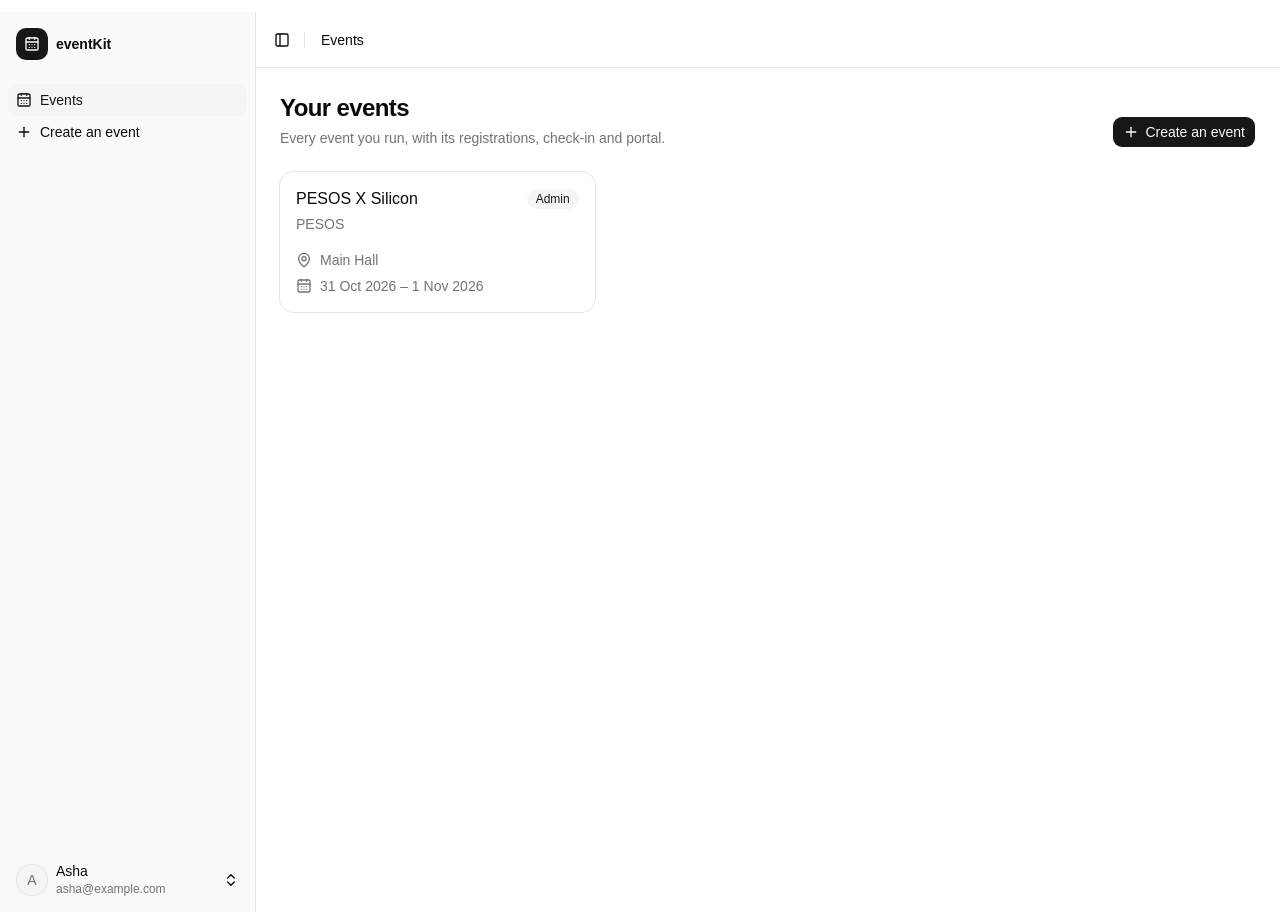
account settings › opens from the account menu and shows who you are
Click the button named "Account". click: (128, 880)
box: [8,856,247,904]
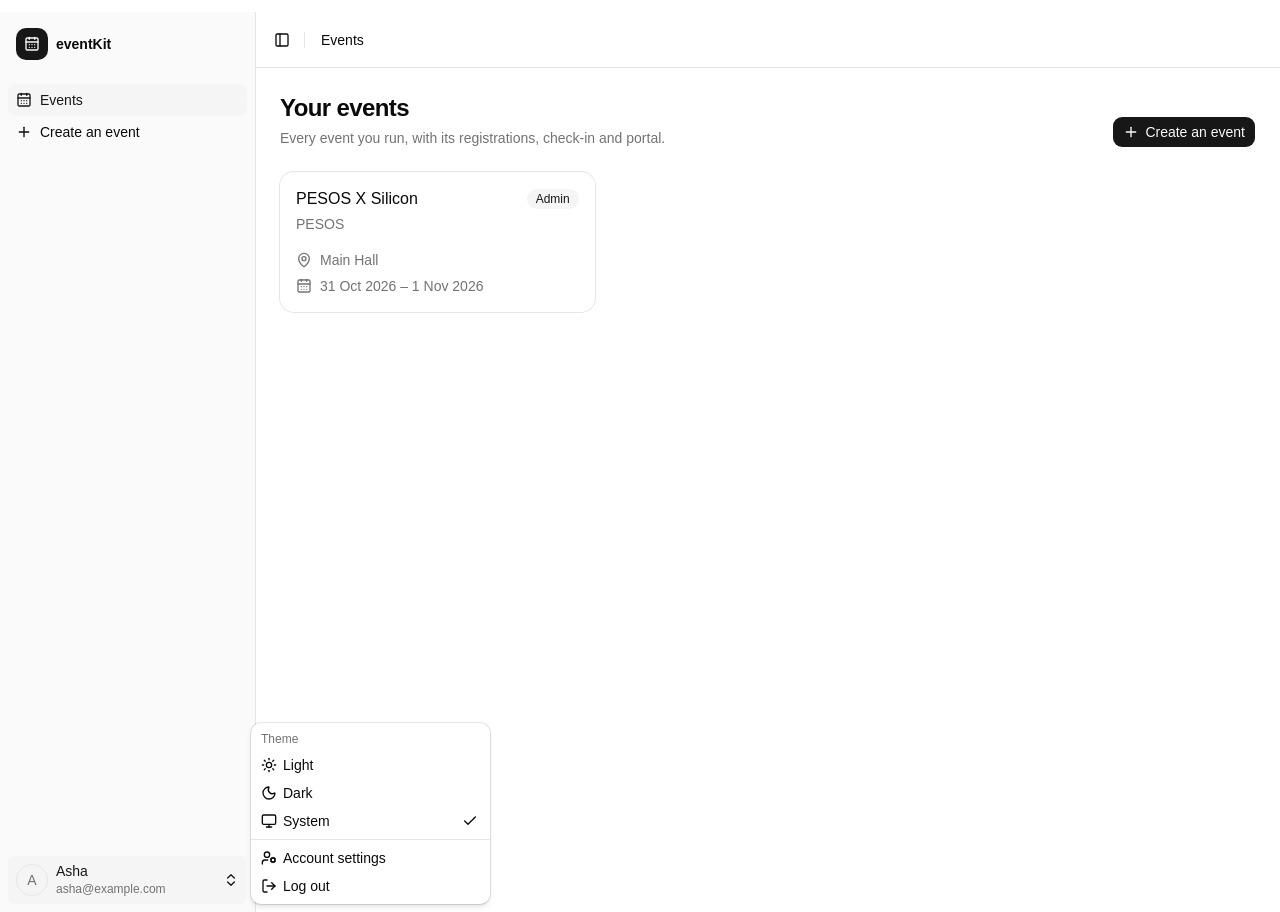
Click the menu item "Account settings". click: (323, 858)
box: [261,850,386,866]
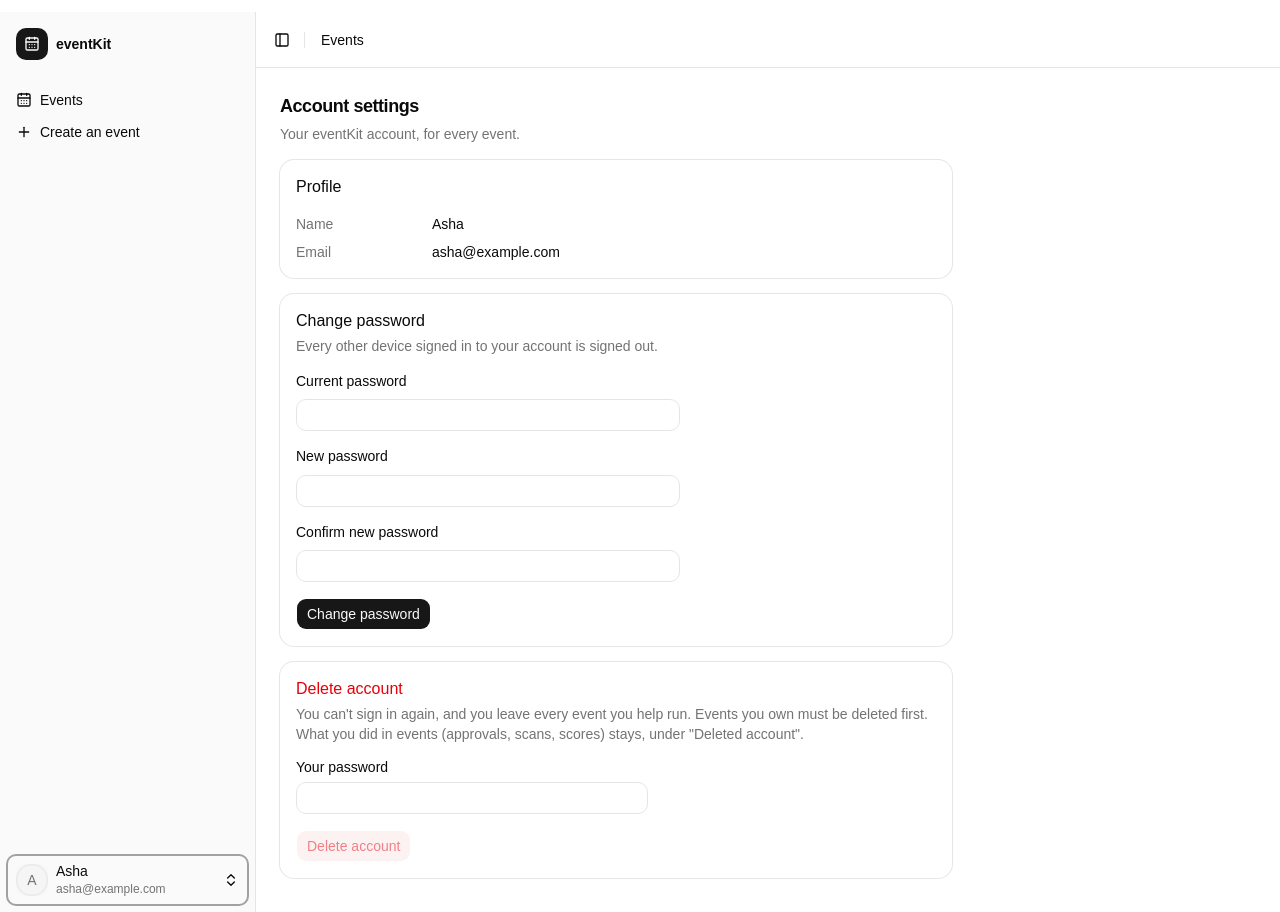
Expected: the text "asha@example.com" next to "Email" is shown, [432,244,560,260]
